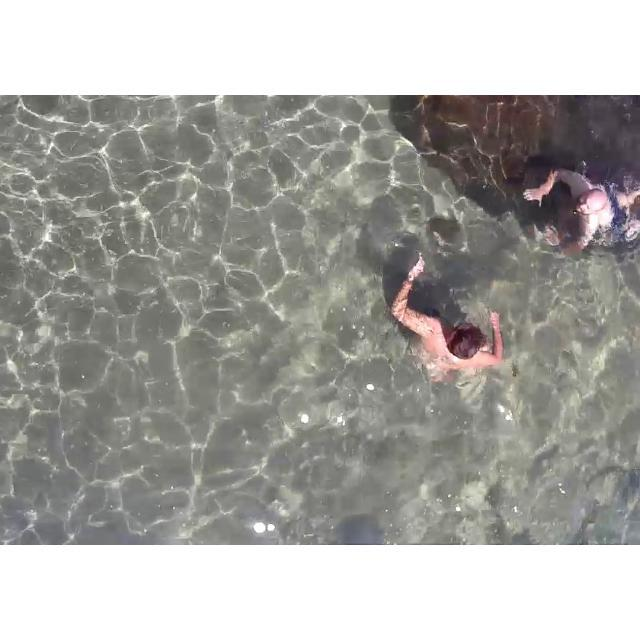human: (381, 247, 509, 383), (528, 159, 637, 255)
